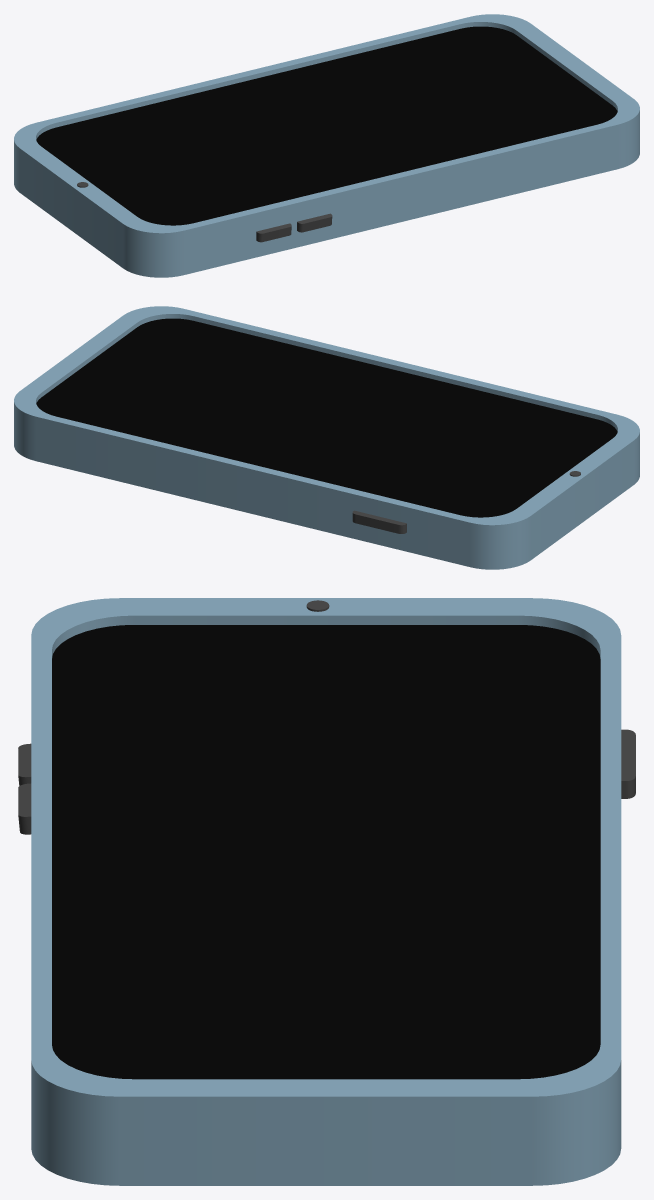
The model's file is phone.fbx.
3 renders of one model, top to bottom at view 1: azimuth 30°, elevation 25°; view 2: azimuth 150°, elevation 25°; view 3: azimuth 270°, elevation 25°, orthographic. The views are drawn at different scales.
Parts seen in each view (by area): view 1: Power_Button_PhoneButton_Mat_0; view 2: Power_Button_PhoneButton_Mat_0; view 3: Power_Button_PhoneButton_Mat_0.
Part boxes in pixels (<box>): Power_Button_PhoneButton_Mat_0: <box>14,14,639,277</box>; Power_Button_PhoneButton_Mat_0: <box>14,306,639,569</box>; Power_Button_PhoneButton_Mat_0: <box>18,598,635,1185</box>.
Bounding box in the file's own units: 5.18 × 0.5429 × 2.71.
